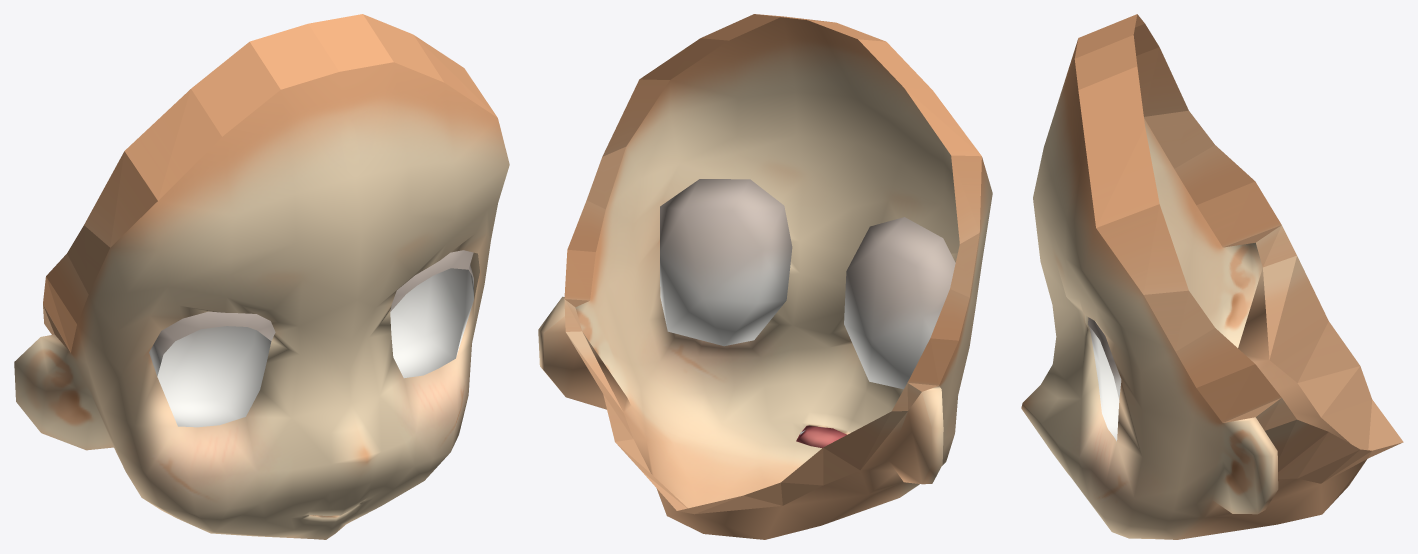
Rendered from zhanshi_lian.FBX.
The picture shows the model from 3 angles, left to right: view 1: azimuth 30°, elevation 25°; view 2: azimuth 150°, elevation 25°; view 3: azimuth 270°, elevation 25°; orthographic projection. The views are drawn at different scales.
Visible parts, largest first — view 1: zhanshi_lian; view 2: zhanshi_lian; view 3: zhanshi_lian.
Boxes of the visible parts, x1=… form: zhanshi_lian: x1=14, y1=14, x2=509, y2=539; zhanshi_lian: x1=538, y1=14, x2=992, y2=539; zhanshi_lian: x1=1021, y1=14, x2=1403, y2=539.
Size of the model in its own units: 27.07 by 29.59 by 21.45.
